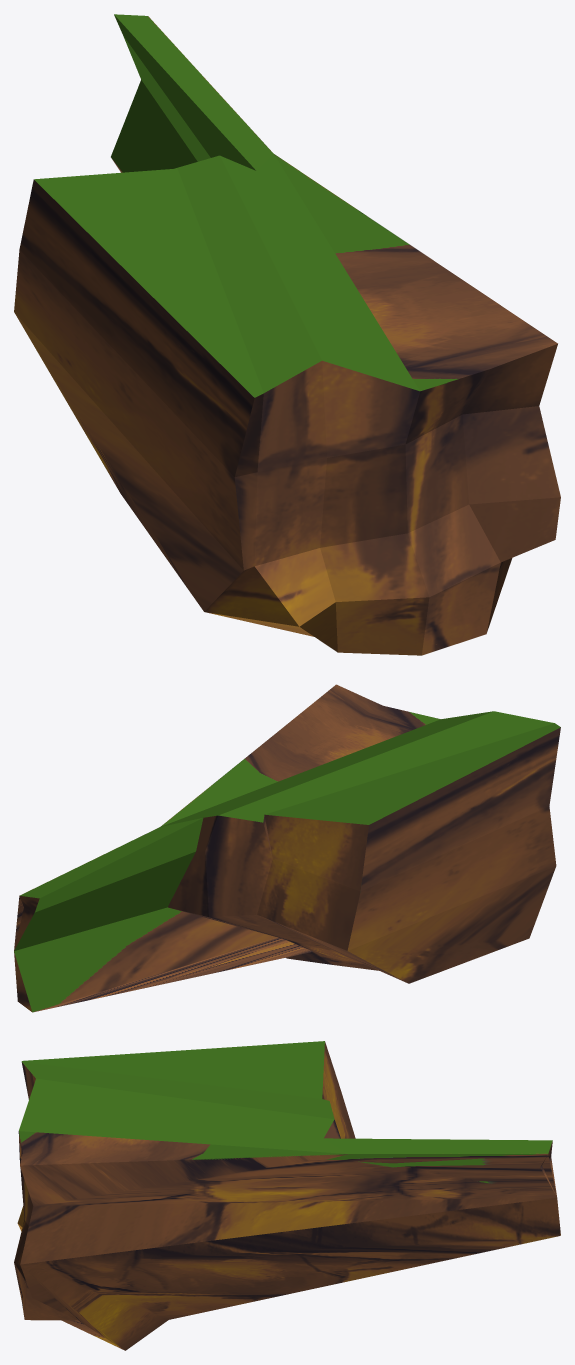
Rendered from sali54.obj.
The picture shows the model from 3 angles, top to bottom: view 1: azimuth 30°, elevation 25°; view 2: azimuth 150°, elevation 25°; view 3: azimuth 270°, elevation 25°; orthographic projection. The views are drawn at different scales.
Visible parts, largest first — view 1: Plane.022_Plane.023; view 2: Plane.022_Plane.023; view 3: Plane.022_Plane.023.
Part boxes in pixels (left/top/right/bottom): Plane.022_Plane.023: left=14, top=14, right=560, bottom=655; Plane.022_Plane.023: left=14, top=684, right=560, bottom=1012; Plane.022_Plane.023: left=14, top=1041, right=560, bottom=1350.
Size of the model in its own units: 57.11 by 62.07 by 135.
1 material, 1 textured.
